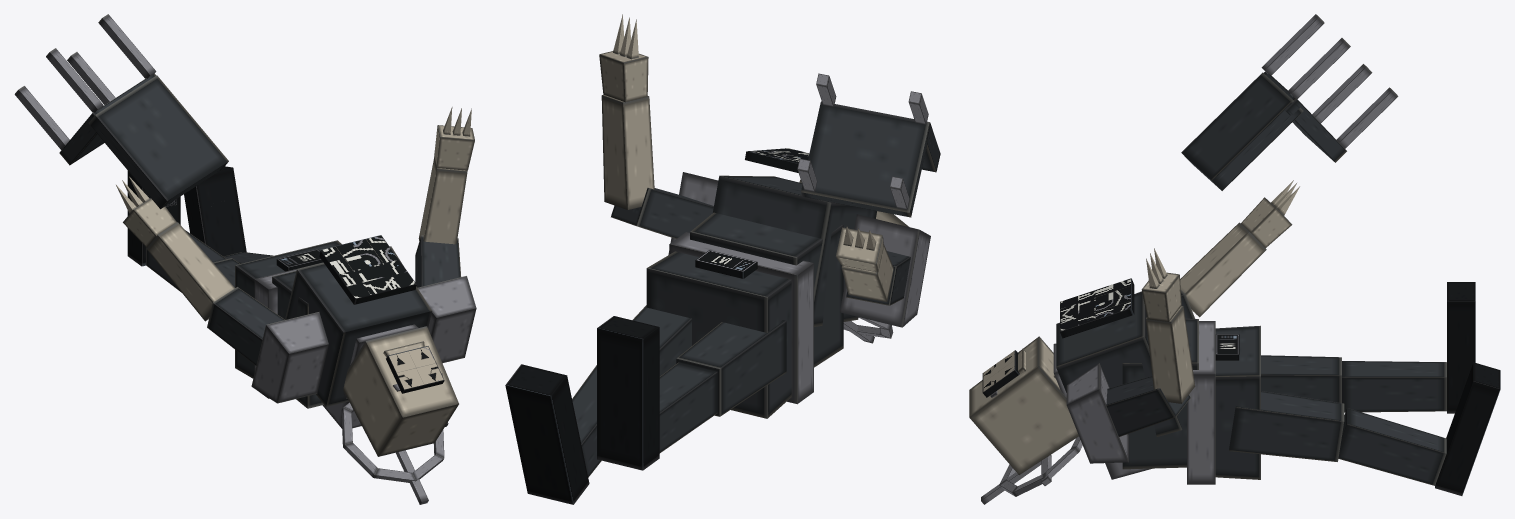
Rendered from posthum_hurt.obj.
3 renders of one model, left to right at view 1: azimuth 30°, elevation 25°; view 2: azimuth 150°, elevation 25°; view 3: azimuth 270°, elevation 25°, orthographic. The views are drawn at different scales.
Parts seen in each view (by area): view 1: posthum_hurt; view 2: posthum_hurt; view 3: posthum_hurt.
Part boxes in pixels (x1=…): posthum_hurt: x1=14, y1=14, x2=476, y2=504; posthum_hurt: x1=505, y1=14, x2=940, y2=504; posthum_hurt: x1=969, y1=14, x2=1500, y2=504.
Bounding box in the file's own units: 0.7372 × 0.7746 × 0.9423.
Materials: 1 (1 with a texture image).
